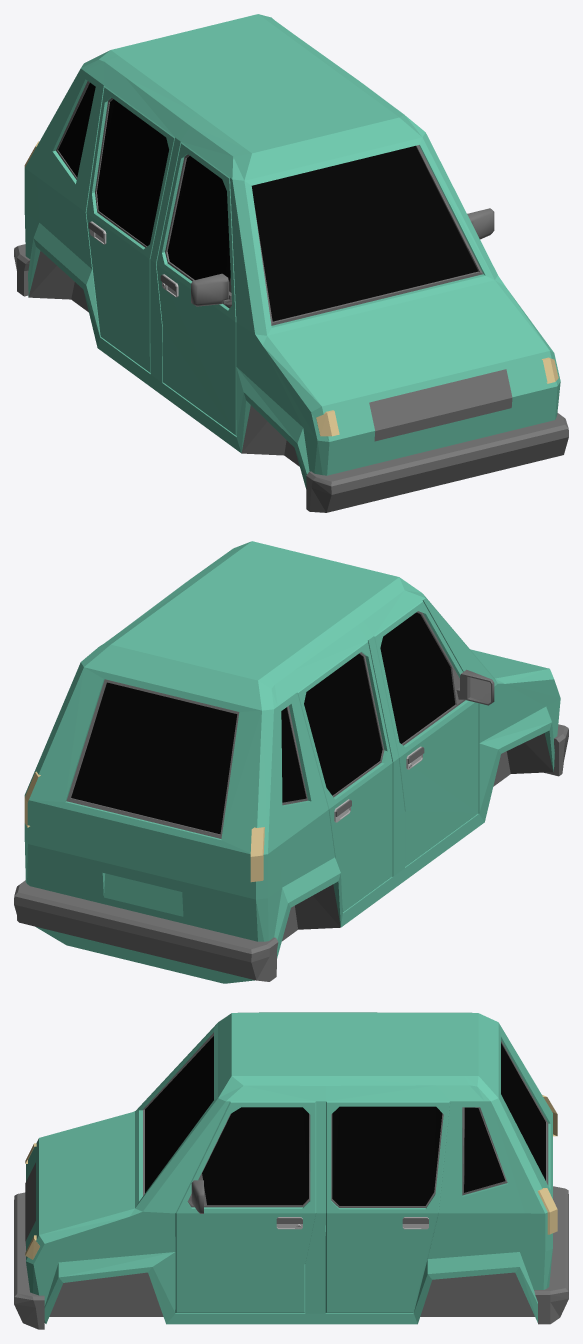
File: SmallCar.glb
The picture shows the model from 3 angles, top to bottom: view 1: azimuth 30°, elevation 25°; view 2: azimuth 150°, elevation 25°; view 3: azimuth 270°, elevation 25°; orthographic projection. The views are drawn at different scales.
Parts seen in each view (by area): view 1: Chassis_Chassis_0, Windows_Windows_0, Chassis_Bumpers_0, FR_Door_Chassis_0, RR_Door_Chassis_0, RR_Door_Windows_0, FR_Door_Windows_0, FR_Door_Bumpers_0, RR_Door_Bumpers_0; view 2: Chassis_Chassis_0, Windows_Windows_0, Chassis_Bumpers_0, FR_Door_Chassis_0, RR_Door_Chassis_0, RR_Door_Windows_0, FR_Door_Windows_0, FR_Door_Bumpers_0, Turn_Lights_r_Turn_lights_0, RR_Door_Bumpers_0; view 3: Chassis_Chassis_0, FL_Door_Chassis_0, Chassis_Bumpers_0, RL_Door_Chassis_0, RL_Door_Windows_0, Windows_Windows_0, FL_Door_Windows_0, FL_Door_Bumpers_0, RL_Door_Bumpers_0, Turn_Lights_l_Turn_lights_0.
Part boxes in pixels (bbox=[...]): Chassis_Chassis_0: bbox=[24, 14, 560, 488]; Windows_Windows_0: bbox=[58, 82, 478, 321]; Chassis_Bumpers_0: bbox=[14, 81, 568, 512]; FR_Door_Chassis_0: bbox=[156, 142, 236, 435]; RR_Door_Chassis_0: bbox=[86, 86, 174, 372]; RR_Door_Windows_0: bbox=[97, 99, 168, 246]; FR_Door_Windows_0: bbox=[167, 156, 230, 281]; FR_Door_Bumpers_0: bbox=[160, 154, 231, 308]; RR_Door_Bumpers_0: bbox=[88, 98, 146, 247]; Chassis_Chassis_0: bbox=[24, 541, 560, 983]; Windows_Windows_0: bbox=[71, 612, 417, 834]; Chassis_Bumpers_0: bbox=[14, 679, 568, 981]; FR_Door_Chassis_0: bbox=[374, 601, 478, 866]; RR_Door_Chassis_0: bbox=[297, 641, 392, 912]; RR_Door_Windows_0: bbox=[304, 653, 382, 795]; FR_Door_Windows_0: bbox=[380, 612, 455, 743]; FR_Door_Bumpers_0: bbox=[401, 611, 494, 766]; Turn_Lights_r_Turn_lights_0: bbox=[250, 827, 264, 882]; RR_Door_Bumpers_0: bbox=[332, 652, 384, 816]; Chassis_Chassis_0: bbox=[26, 1012, 552, 1324]; FL_Door_Chassis_0: bbox=[175, 1101, 316, 1312]; Chassis_Bumpers_0: bbox=[14, 1032, 568, 1329]; RL_Door_Chassis_0: bbox=[325, 1101, 450, 1312]; RL_Door_Windows_0: bbox=[332, 1106, 442, 1205]; Windows_Windows_0: bbox=[145, 1036, 545, 1192]; FL_Door_Windows_0: bbox=[202, 1107, 308, 1205]; FL_Door_Bumpers_0: bbox=[187, 1114, 310, 1226]; RL_Door_Bumpers_0: bbox=[331, 1113, 443, 1223]; Turn_Lights_l_Turn_lights_0: bbox=[25, 1188, 557, 1259].
Size of the model in its own units: 5.14 by 4.46 by 9.39.
